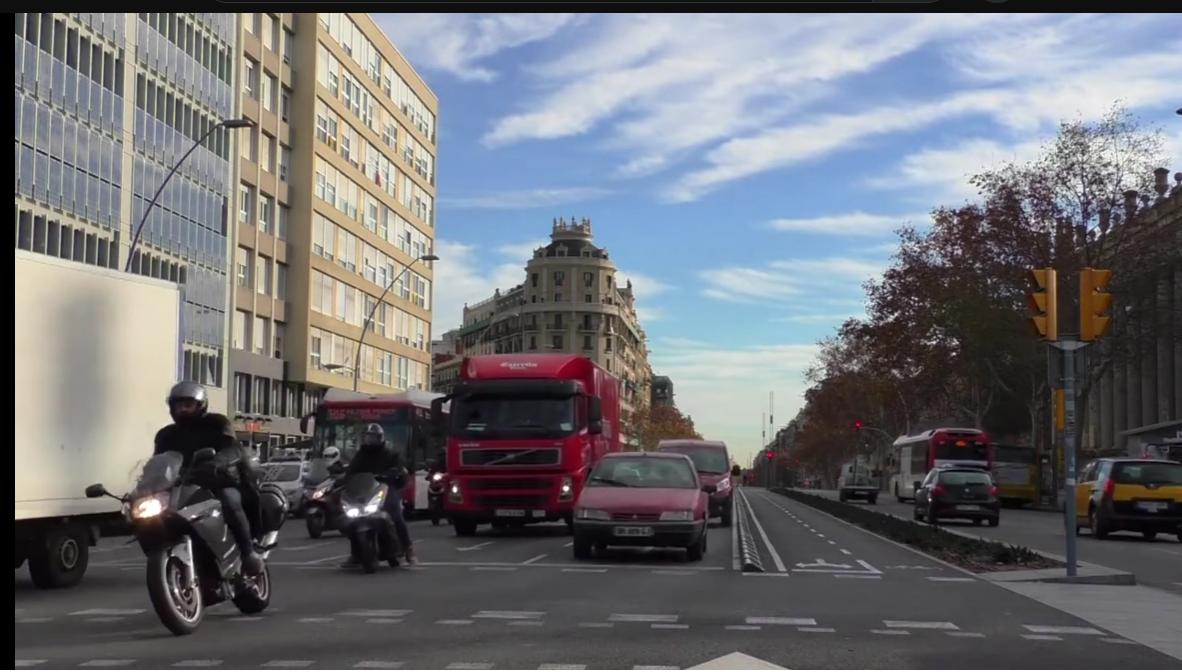car: (927, 456, 1011, 527)
motorcycle: (83, 382, 333, 670), (317, 396, 441, 584)
truck: (20, 237, 209, 590), (449, 316, 612, 549)
